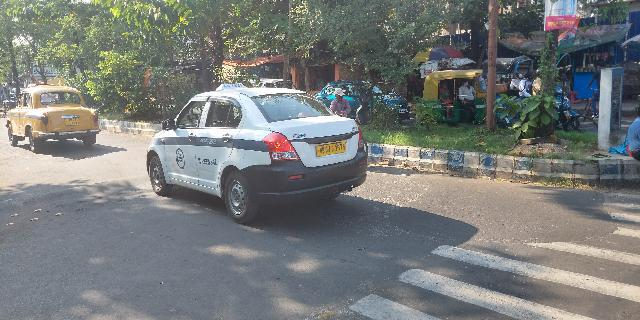Car: (142, 83, 368, 222), (5, 81, 99, 153)
